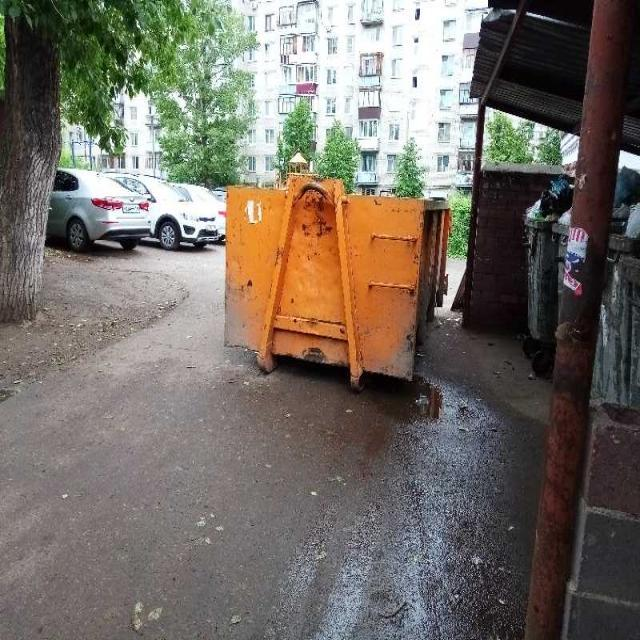Dumpster: (224, 184, 449, 376)
